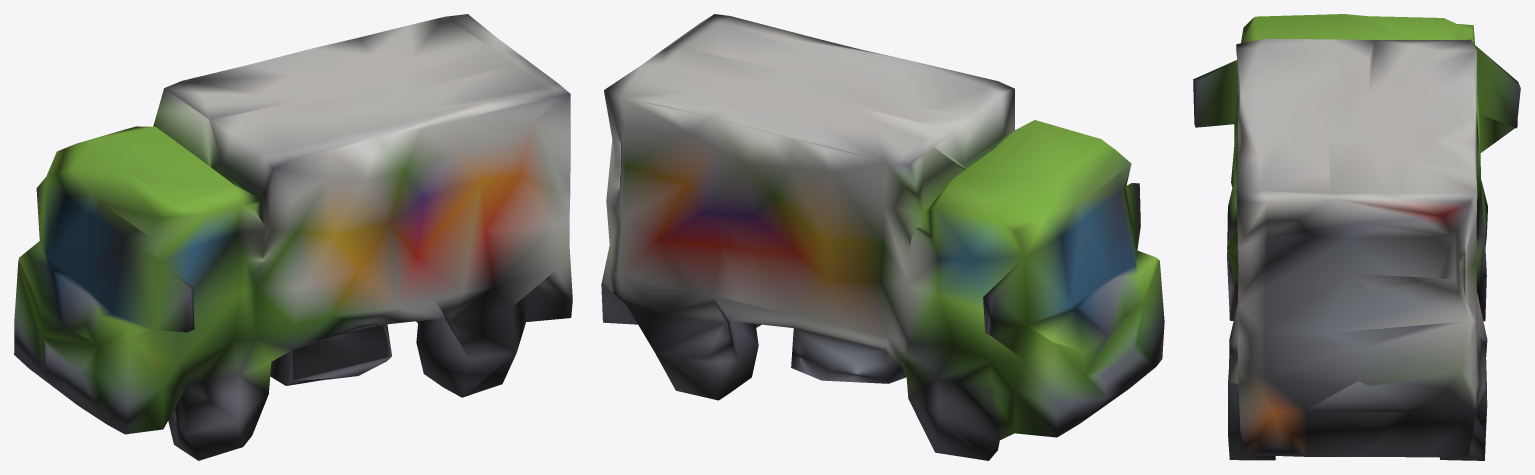
The model's file is st_truck_lo.glb.
The picture shows the model from 3 angles, left to right: view 1: azimuth 30°, elevation 25°; view 2: azimuth 150°, elevation 25°; view 3: azimuth 270°, elevation 25°; orthographic projection. The views are drawn at different scales.
Visible parts, largest first — view 1: tripo_node_ffc69310-5e2a-48e8-ab75-e959beac6f66; view 2: tripo_node_ffc69310-5e2a-48e8-ab75-e959beac6f66; view 3: tripo_node_ffc69310-5e2a-48e8-ab75-e959beac6f66.
Boxes of the visible parts, left/top/right/bottom form: tripo_node_ffc69310-5e2a-48e8-ab75-e959beac6f66: left=14, top=14, right=572, bottom=460; tripo_node_ffc69310-5e2a-48e8-ab75-e959beac6f66: left=601, top=14, right=1164, bottom=460; tripo_node_ffc69310-5e2a-48e8-ab75-e959beac6f66: left=1193, top=14, right=1520, bottom=460.
Bounding box in the file's own units: 0.9997 × 0.5692 × 0.5539.
